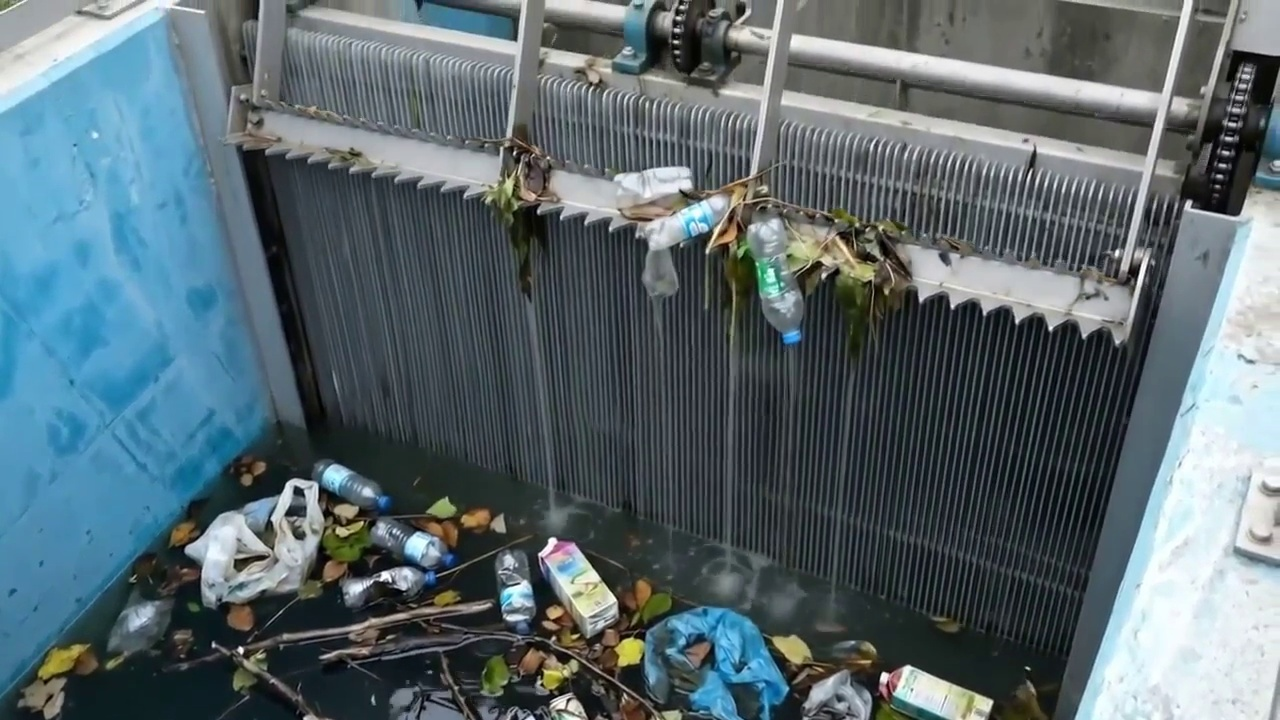debris: (613, 167, 913, 344), (187, 460, 456, 606), (770, 636, 994, 719), (643, 608, 787, 719), (537, 537, 621, 638), (108, 587, 173, 654), (340, 566, 434, 610), (496, 552, 538, 631), (344, 615, 413, 644)
